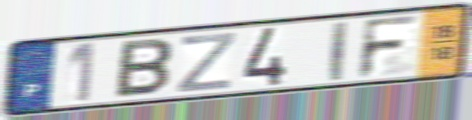1: (64, 40, 97, 106)
4: (242, 25, 289, 89)
B: (112, 37, 175, 101)
F: (355, 13, 422, 81)
I: (329, 18, 350, 84)
Z: (173, 30, 239, 94)
